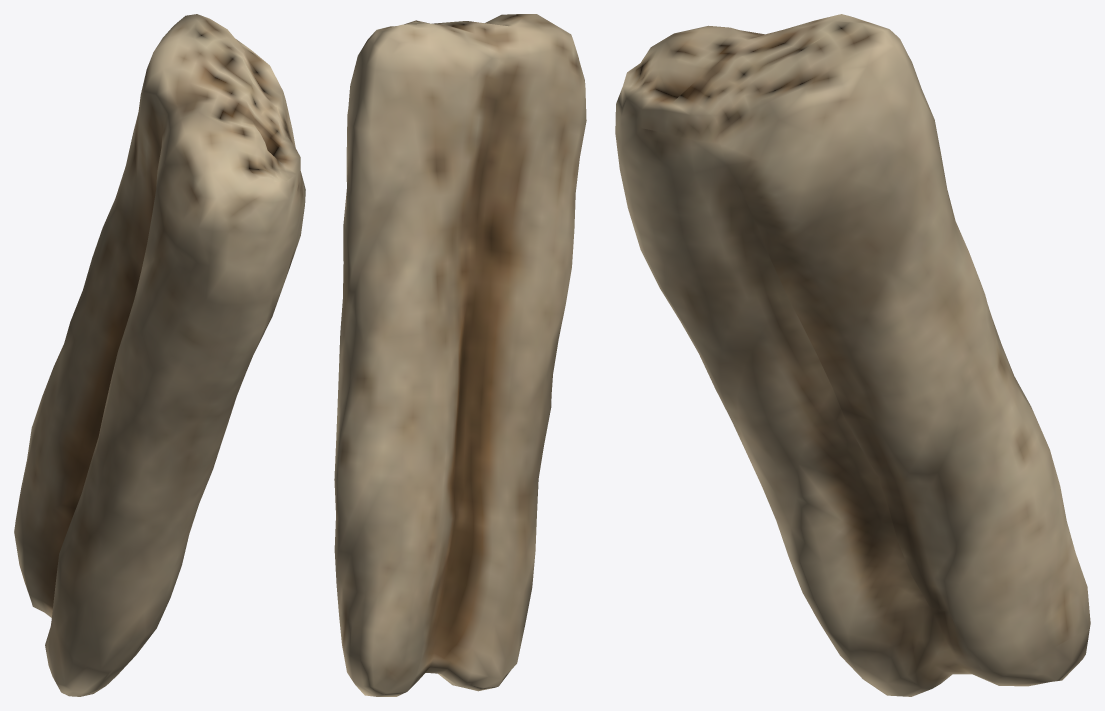
Rendered from Mandibular_Premolar1.glb.
3 views of the same model, side by side, from view 1: azimuth 30°, elevation 25°; view 2: azimuth 150°, elevation 25°; view 3: azimuth 270°, elevation 25° (orthographic). The views are drawn at different scales.
Visible parts, largest first — view 1: Group65508_Mesh.015; view 2: Group65508_Mesh.015; view 3: Group65508_Mesh.015.
Part boxes in pixels (x1,y1,x2,y2): Group65508_Mesh.015: (14,14,305,696); Group65508_Mesh.015: (334,14,586,696); Group65508_Mesh.015: (615,14,1090,696).
Size of the model in its own units: 0.0195 by 0.0661 by 0.0394.
1 material, 1 textured.
